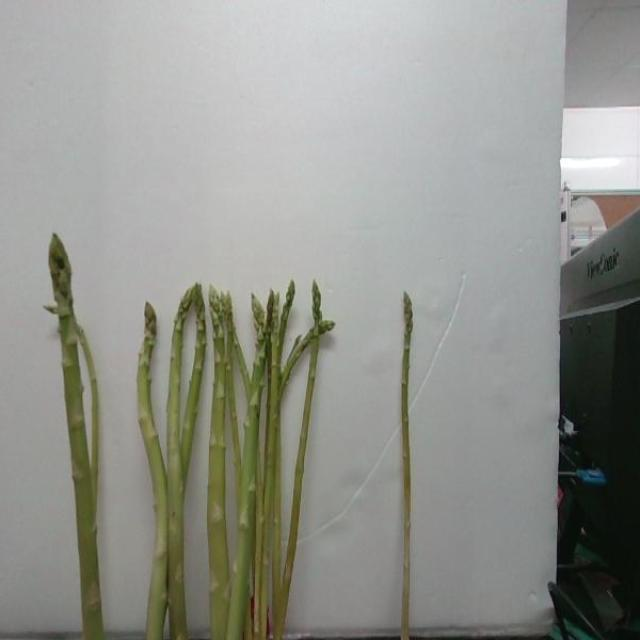aspargus: (48, 234, 104, 640), (135, 303, 169, 640), (401, 293, 419, 640)
